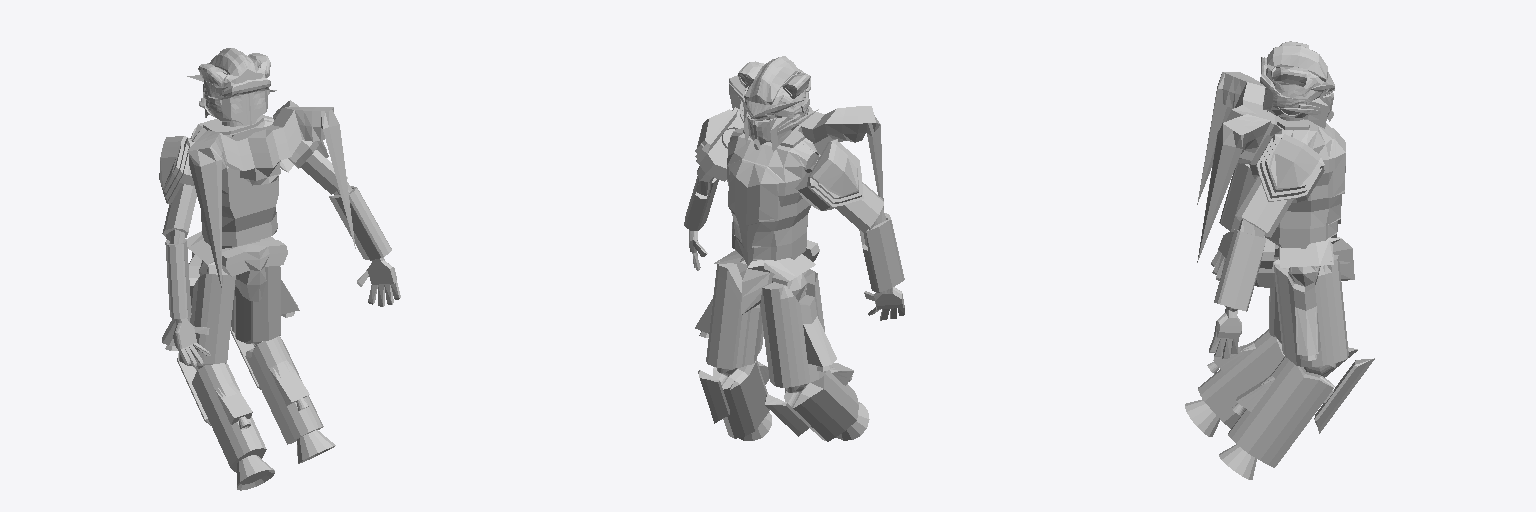
File: walk7.obj
3 renders of one model, left to right at view 1: azimuth 30°, elevation 25°; view 2: azimuth 150°, elevation 25°; view 3: azimuth 270°, elevation 25°, orthographic.
Visible parts, largest first — view 1: Bottom_Half_Cube.008; view 2: Bottom_Half_Cube.008; view 3: Bottom_Half_Cube.008.
Part boxes in pixels (bbox=[...]): Bottom_Half_Cube.008: bbox=[159, 48, 400, 490]; Bottom_Half_Cube.008: bbox=[684, 56, 904, 441]; Bottom_Half_Cube.008: bbox=[1185, 41, 1374, 479].
Size of the model in its own units: 1.07 by 1.9 by 0.8055.